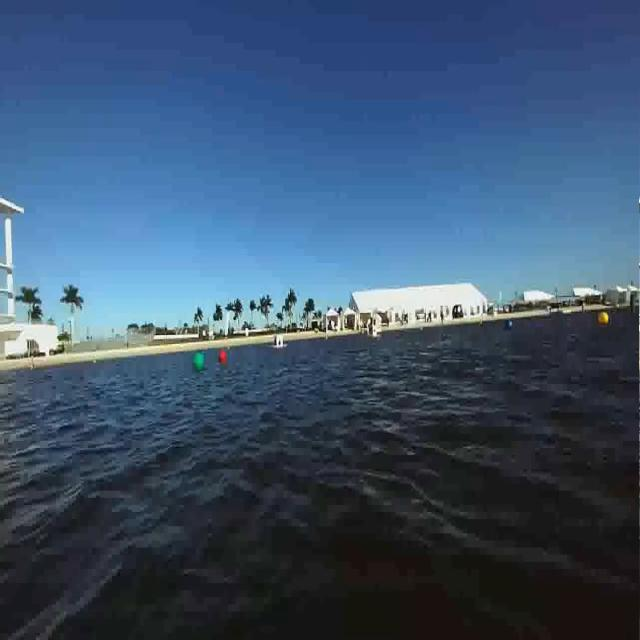green-buoy: (195, 352, 206, 372)
red-buoy: (219, 350, 226, 364)
yellow-buoy: (599, 310, 610, 327)
